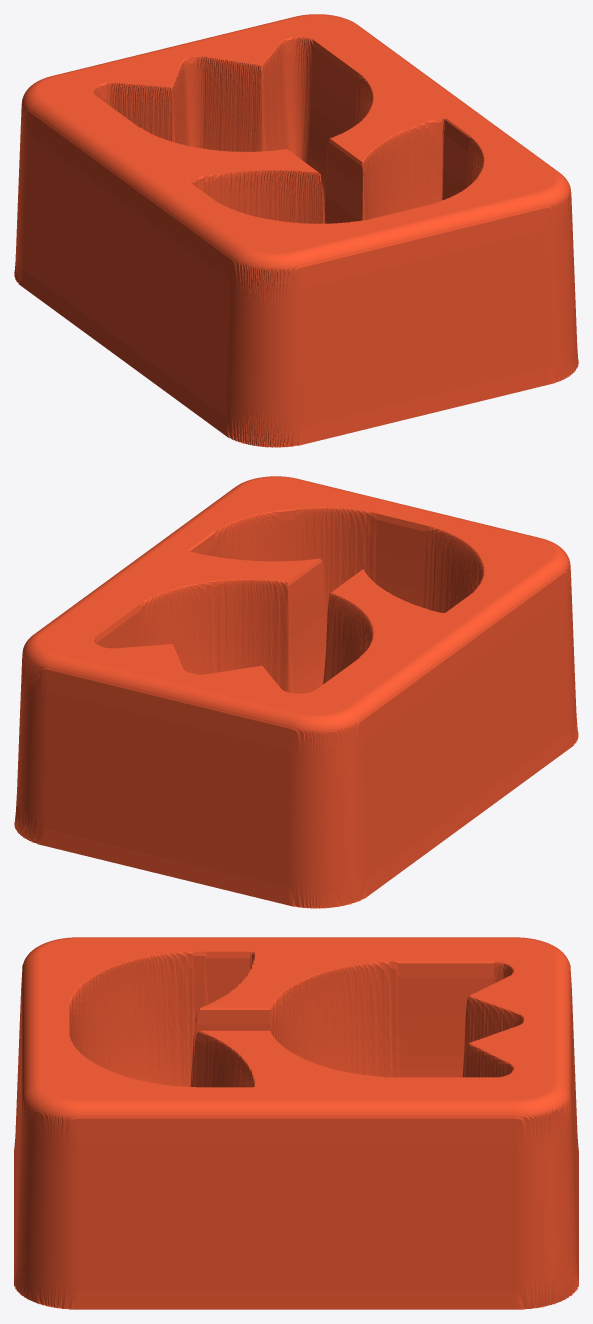
The model's file is mold.glb.
3 views of the same model, one above another, from view 1: azimuth 30°, elevation 25°; view 2: azimuth 150°, elevation 25°; view 3: azimuth 270°, elevation 25° (orthographic). The views are drawn at different scales.
Visible parts, largest first — view 1: geometry_0; view 2: geometry_0; view 3: geometry_0.
Boxes of the visible parts, <box> form: geometry_0: <box>14,14,578,447</box>; geometry_0: <box>14,476,578,908</box>; geometry_0: <box>14,937,578,1309</box>.
Size of the model in its own units: 0.061 by 0.031 by 0.0798.
